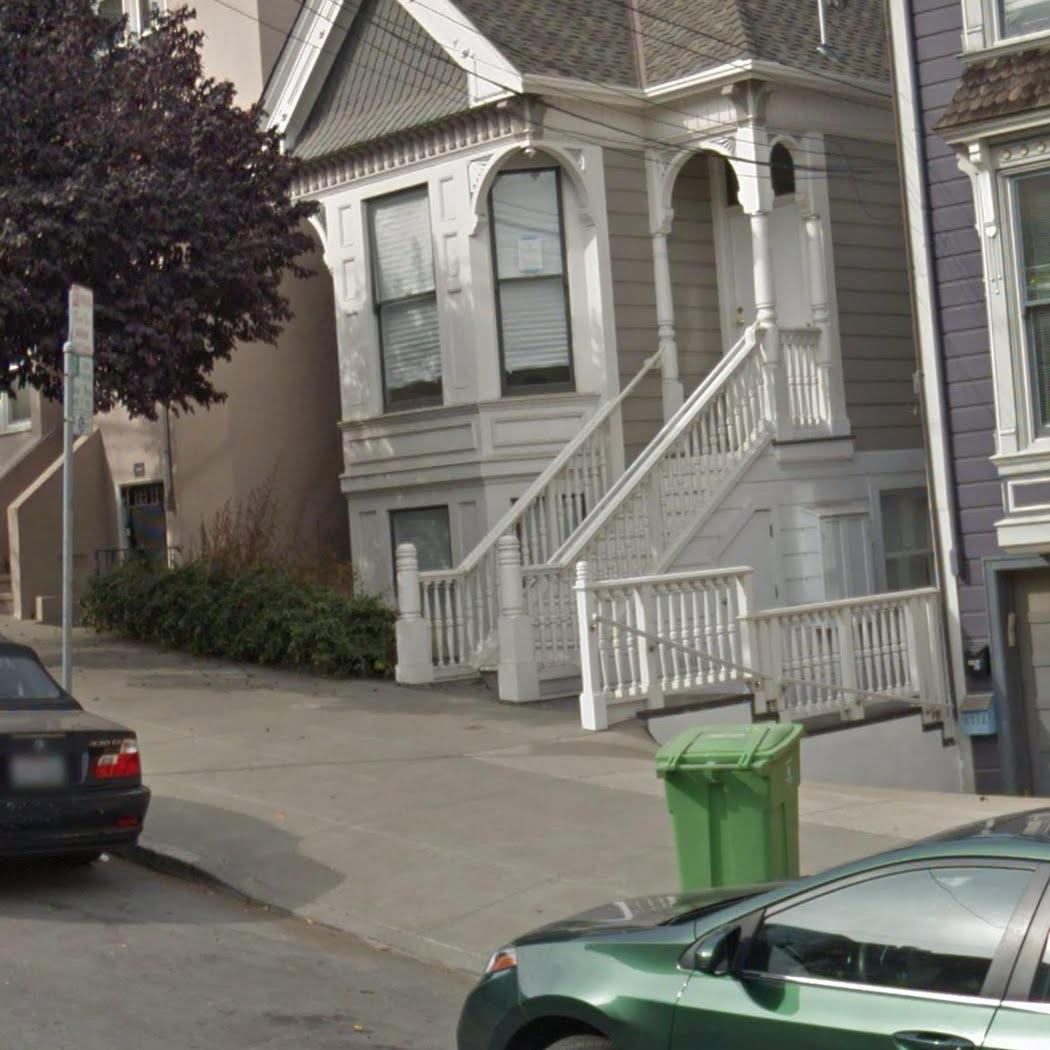2 Hour Parking: (69, 356, 101, 429)
No Parking: (71, 285, 98, 356)
